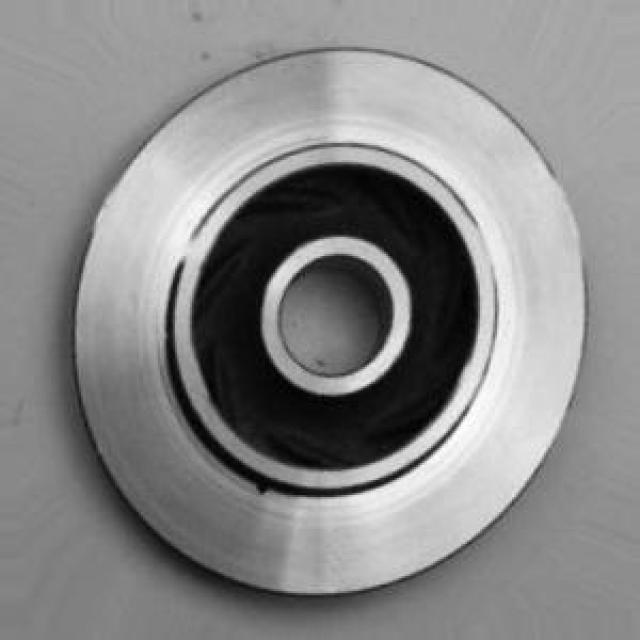Defect: (248, 468, 282, 506)
